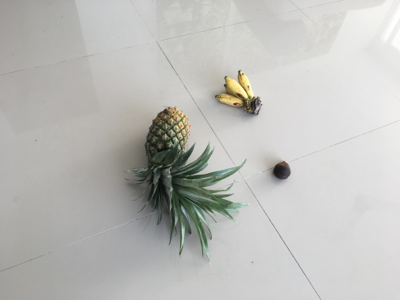banana: (214, 70, 264, 117)
pineapple: (128, 107, 248, 261)
snake fruit: (274, 161, 292, 181)
